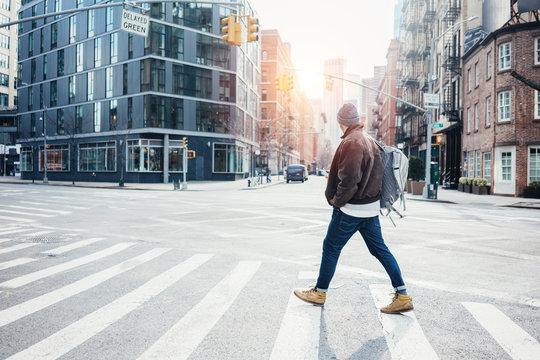person: (287, 101, 417, 316)
